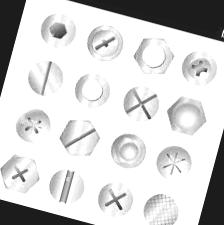screw: (129, 32, 178, 80), (56, 114, 103, 162), (162, 92, 210, 138), (0, 151, 44, 197)
